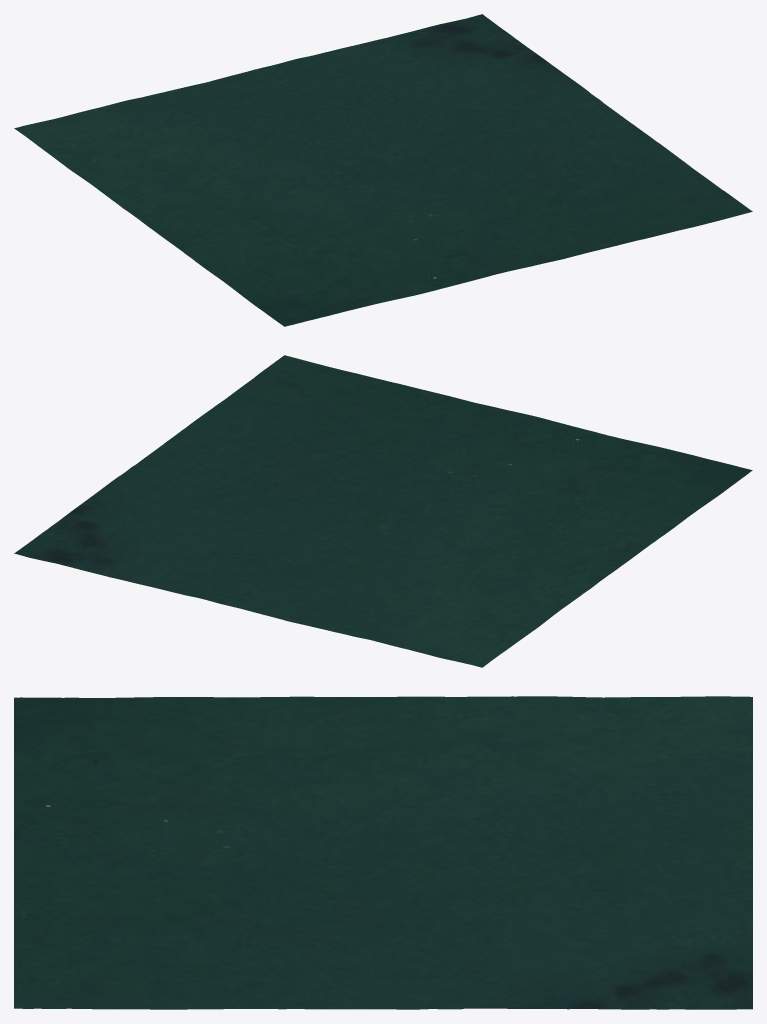
The picture shows the model from 3 angles, top to bottom: view 1: azimuth 30°, elevation 25°; view 2: azimuth 150°, elevation 25°; view 3: azimuth 270°, elevation 25°; orthographic projection. The views are drawn at different scales.
Size of the model in its own units: 209 by 0.8076 by 209.
Materials: 3 (3 with a texture image).
